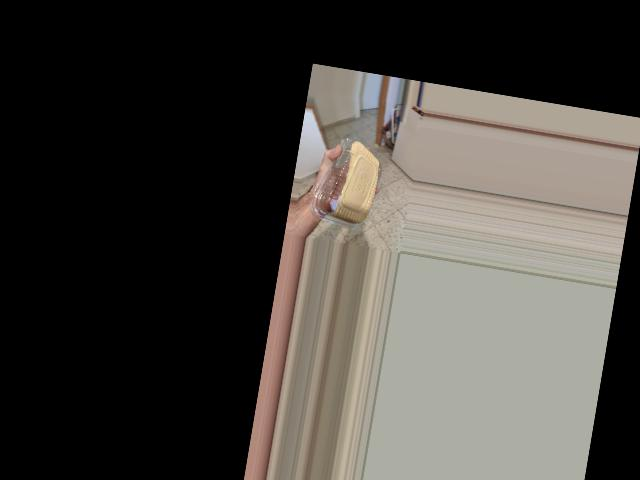cheese: (324, 155, 372, 235)
